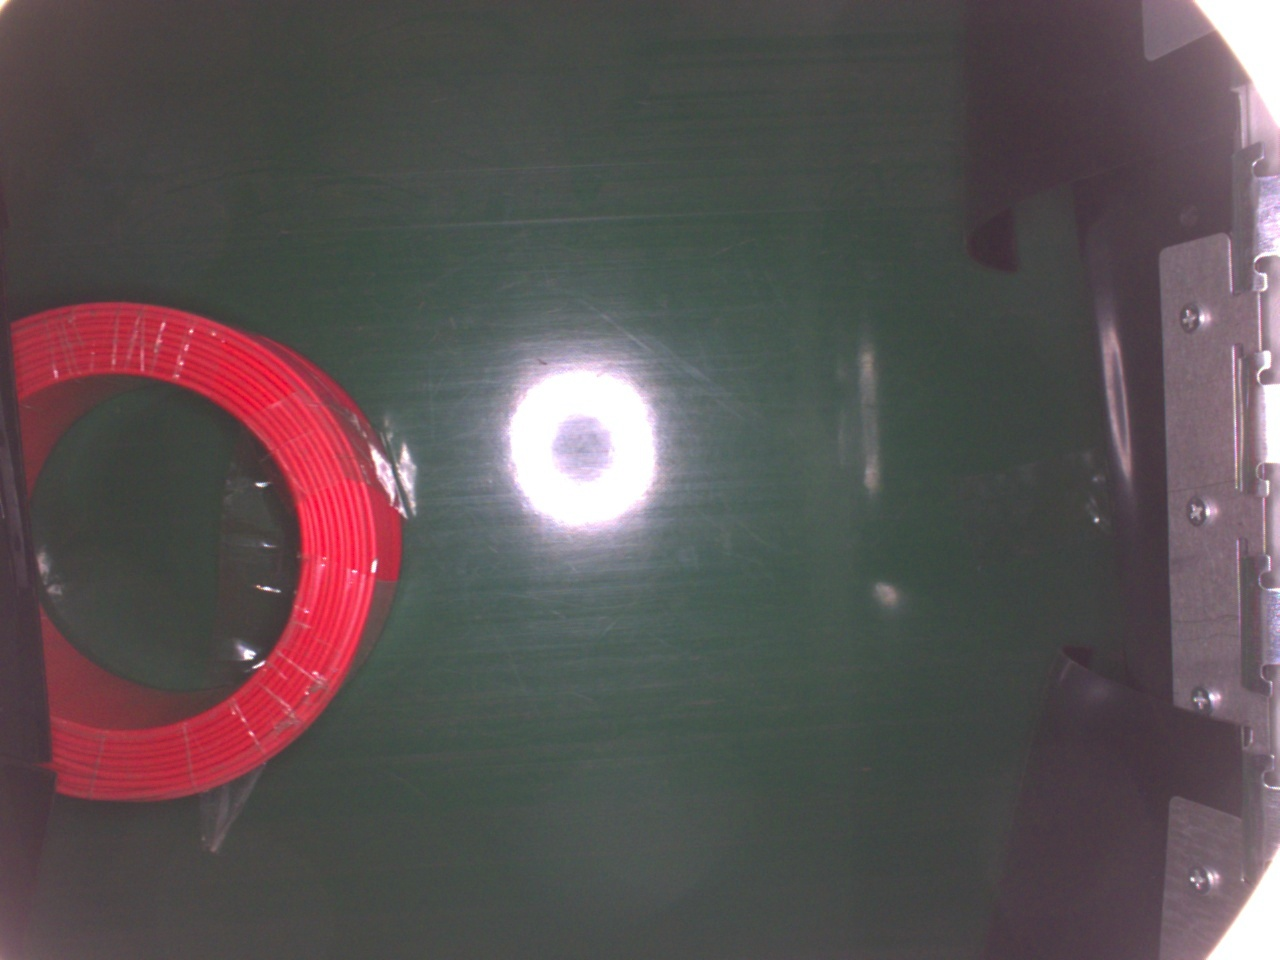red: (9, 296, 402, 806)
